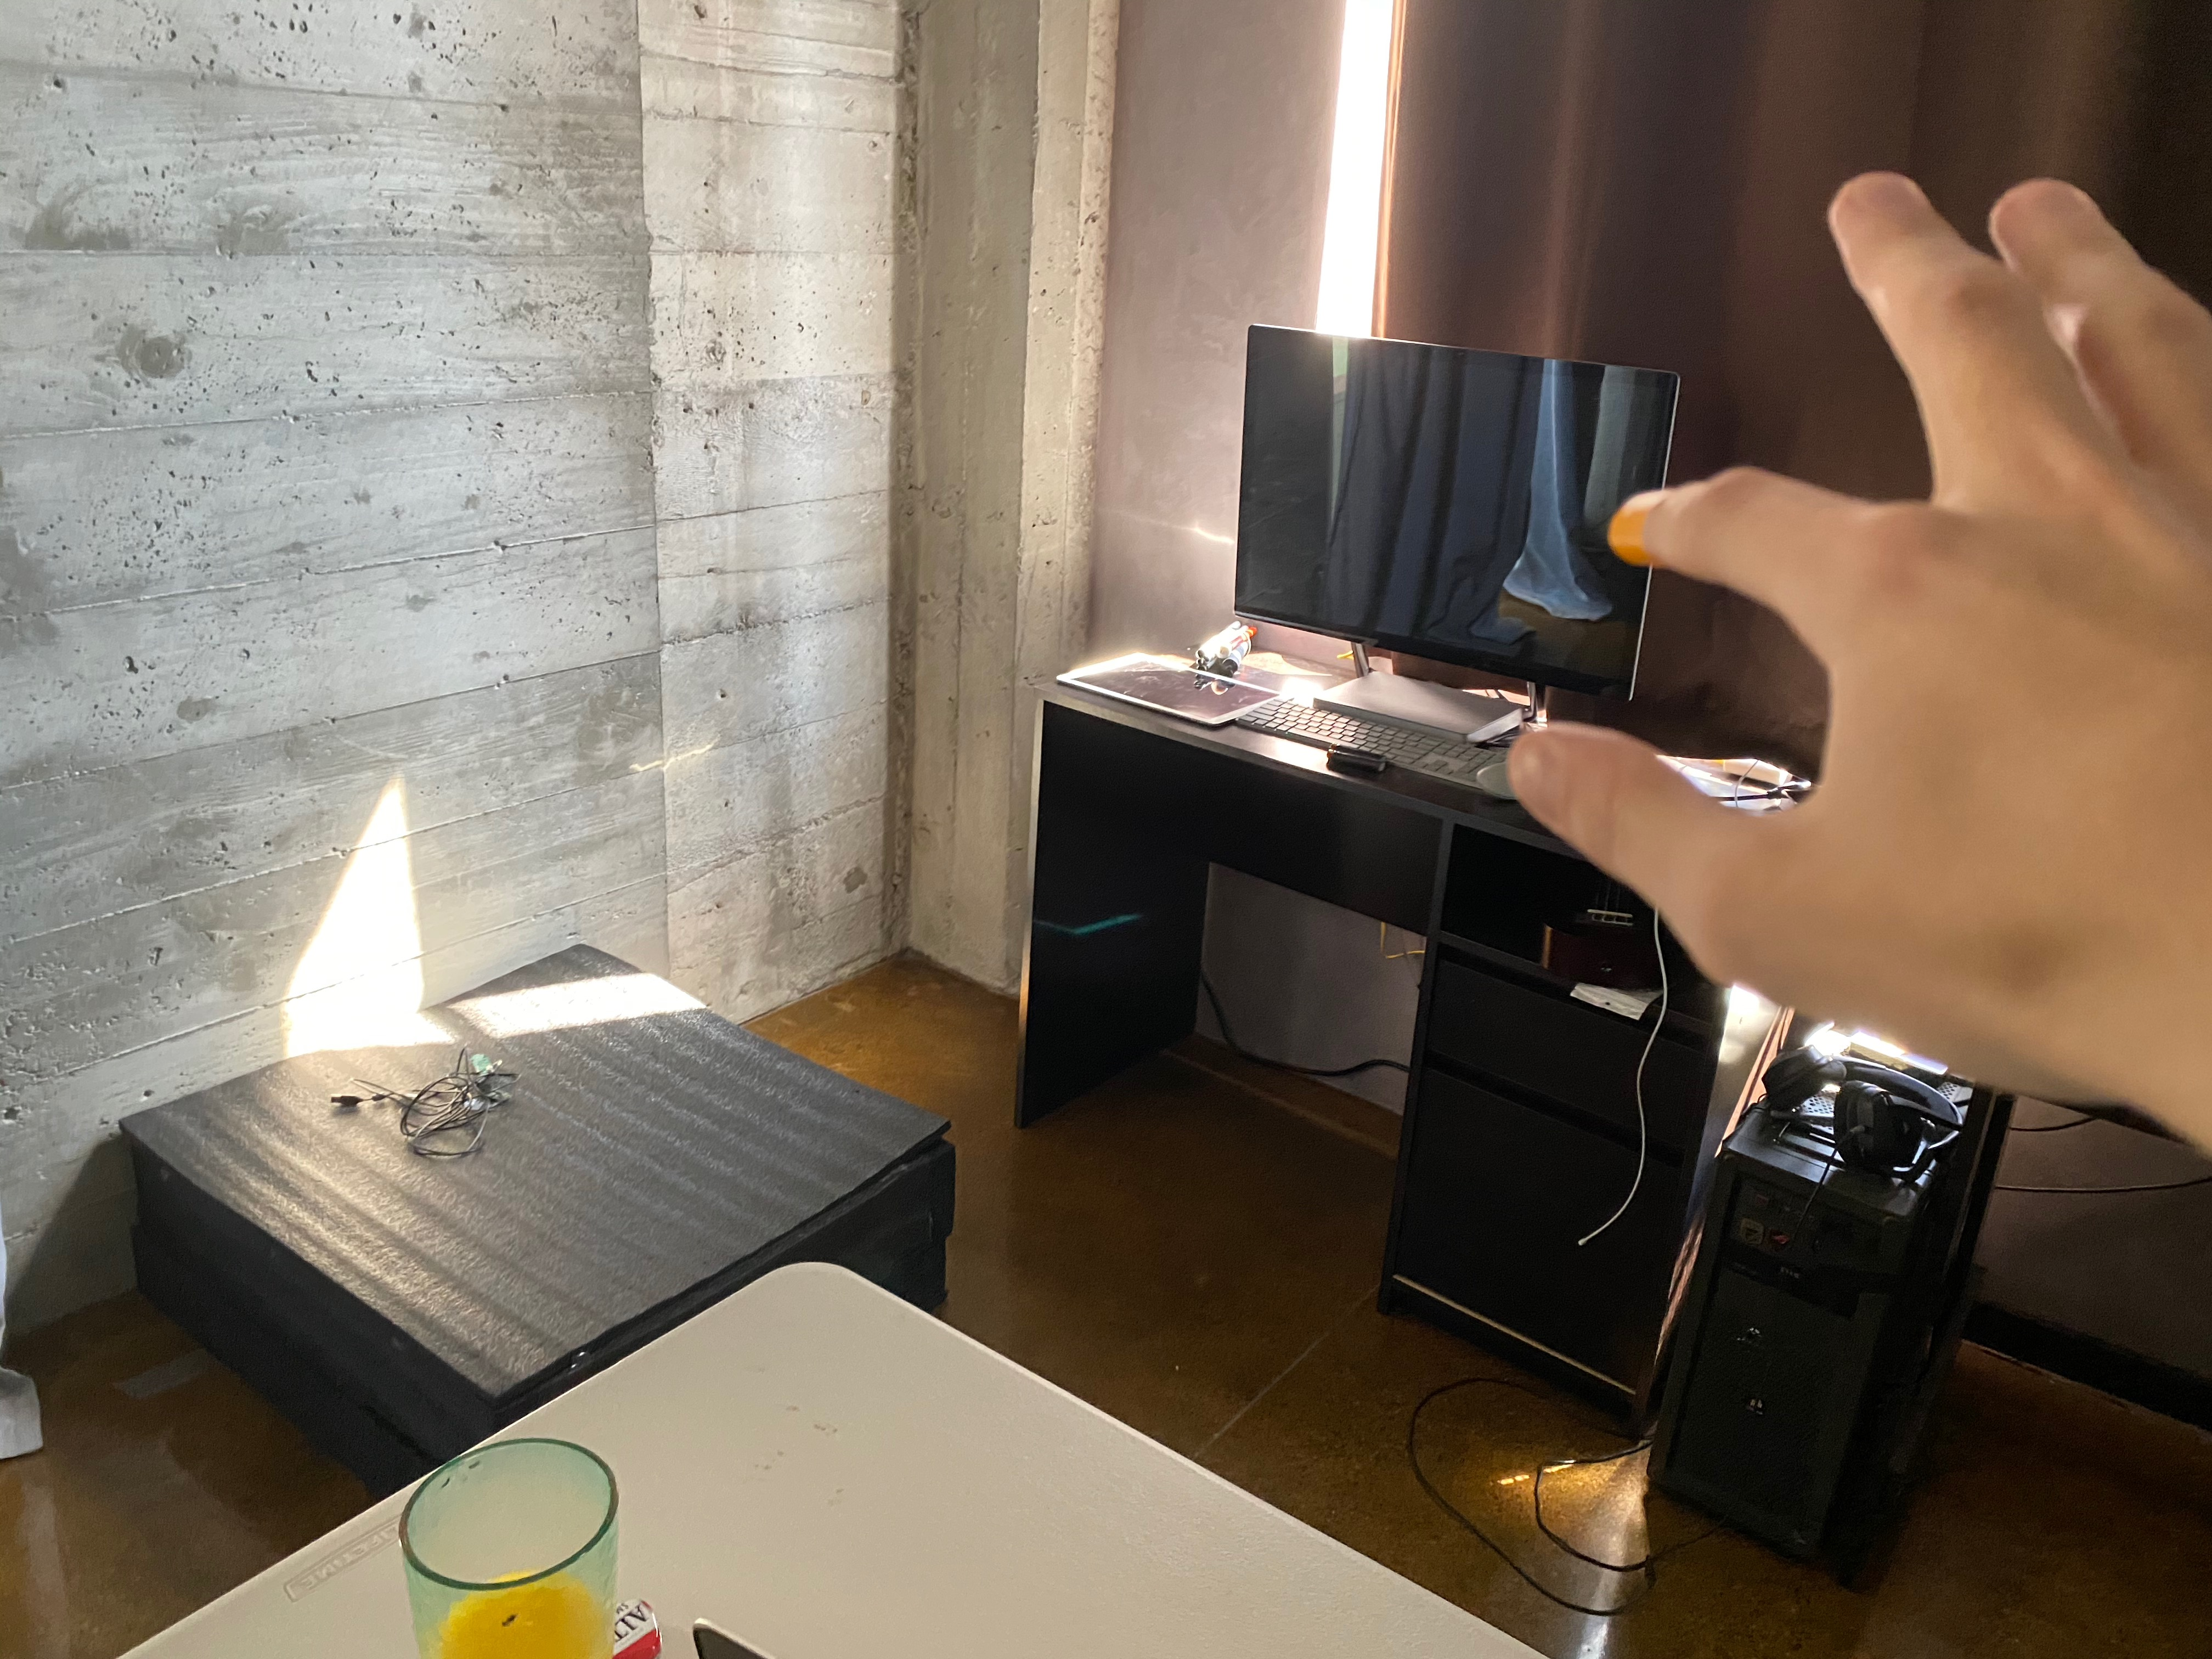fingertip: (1590, 472, 1714, 587)
